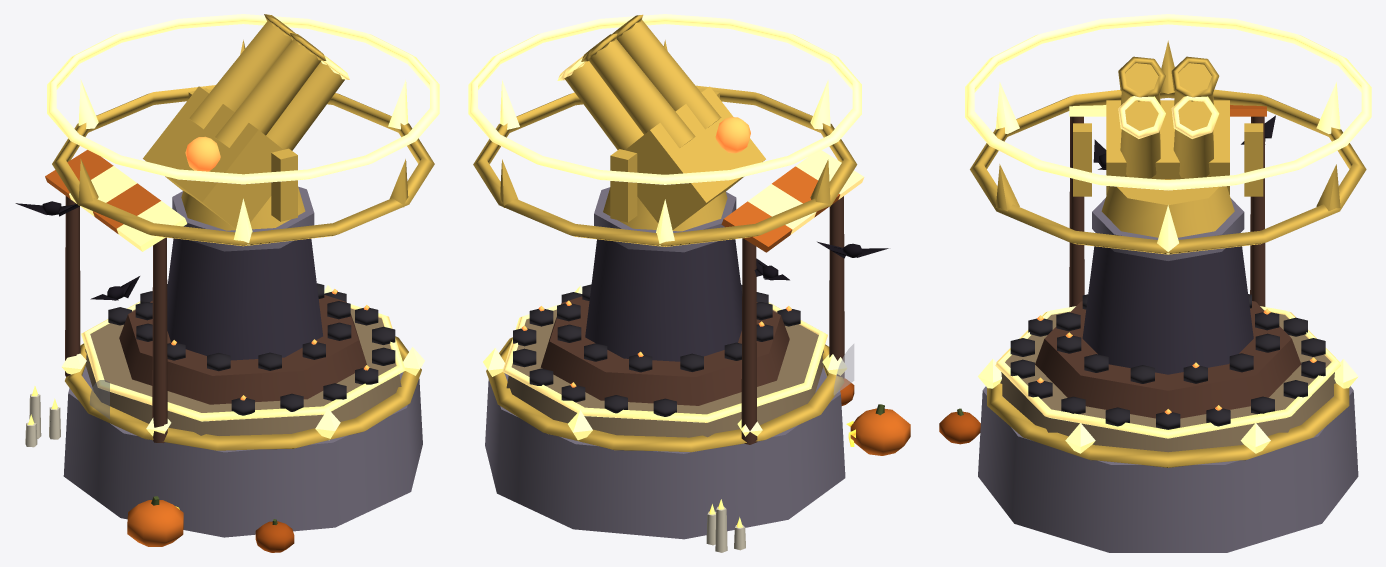
The model's file is tower_mine_carpet_ultimate.glb.
3 renders of one model, left to right at view 1: azimuth 30°, elevation 25°; view 2: azimuth 150°, elevation 25°; view 3: azimuth 270°, elevation 25°, orthographic. The views are drawn at different scales.
Visible parts, largest first — view 1: base, launcher_drum, stall_tier_high, ult_halo, stall_tier_low, ult_crown_band, launcher_breech, ult_ring, launch_tube_2, launch_tube_3, stall_trim, awning_post_l (+16 smaller); view 2: base, launcher_drum, stall_tier_high, ult_halo, stall_tier_low, ult_crown_band, launcher_breech, ult_ring, launch_tube_3, launch_tube_2, stall_trim, awning_post_r (+14 smaller); view 3: base, launcher_drum, stall_tier_high, ult_halo, ult_crown_band, stall_tier_low, ult_ring, turret_yoke, stall_trim, launcher_breech, launch_tube_0, launch_tube_1 (+19 smaller).
Boxes of the visible parts, x1=… form: base: x1=63, y1=366, x2=422, y2=537; launcher_drum: x1=167, y1=238, x2=322, y2=360; stall_tier_high: x1=119, y1=295, x2=366, y2=404; ult_halo: x1=47, y1=14, x2=439, y2=184; stall_tier_low: x1=85, y1=308, x2=401, y2=435; ult_crown_band: x1=52, y1=85, x2=434, y2=246; launcher_breech: x1=143, y1=86, x2=283, y2=229; ult_ring: x1=65, y1=336, x2=421, y2=450; launch_tube_2: x1=215, y1=39, x2=320, y2=147; launch_tube_3: x1=189, y1=20, x2=292, y2=129; stall_trim: x1=81, y1=301, x2=405, y2=421; awning_post_l: x1=152, y1=237, x2=167, y2=443; base: x1=485, y1=367, x2=845, y2=539; launcher_drum: x1=585, y1=239, x2=742, y2=361; stall_tier_high: x1=540, y1=296, x2=789, y2=405; ult_halo: x1=468, y1=14, x2=861, y2=184; stall_tier_low: x1=506, y1=309, x2=823, y2=437; ult_crown_band: x1=473, y1=85, x2=857, y2=246; launcher_breech: x1=625, y1=86, x2=765, y2=229; ult_ring: x1=486, y1=337, x2=844, y2=452; launch_tube_3: x1=588, y1=38, x2=695, y2=148; launch_tube_2: x1=617, y1=19, x2=721, y2=129; stall_trim: x1=502, y1=302, x2=827, y2=422; awning_post_r: x1=741, y1=238, x2=757, y2=444; base: x1=978, y1=386, x2=1358, y2=552; launcher_drum: x1=1082, y1=246, x2=1253, y2=374; stall_tier_high: x1=1035, y1=301, x2=1301, y2=418; ult_halo: x1=965, y1=14, x2=1371, y2=190; ult_crown_band: x1=970, y1=89, x2=1366, y2=254; stall_tier_low: x1=1000, y1=311, x2=1335, y2=452; ult_ring: x1=987, y1=383, x2=1349, y2=467; turret_yoke: x1=1101, y1=179, x2=1234, y2=237; stall_trim: x1=995, y1=306, x2=1340, y2=438; launcher_breech: x1=1106, y1=100, x2=1229, y2=194; launch_tube_0: x1=1120, y1=100, x2=1160, y2=178; launch_tube_1: x1=1173, y1=100, x2=1213, y2=178.
Size of the model in its own units: 0.4545 by 0.5095 by 0.4541.
